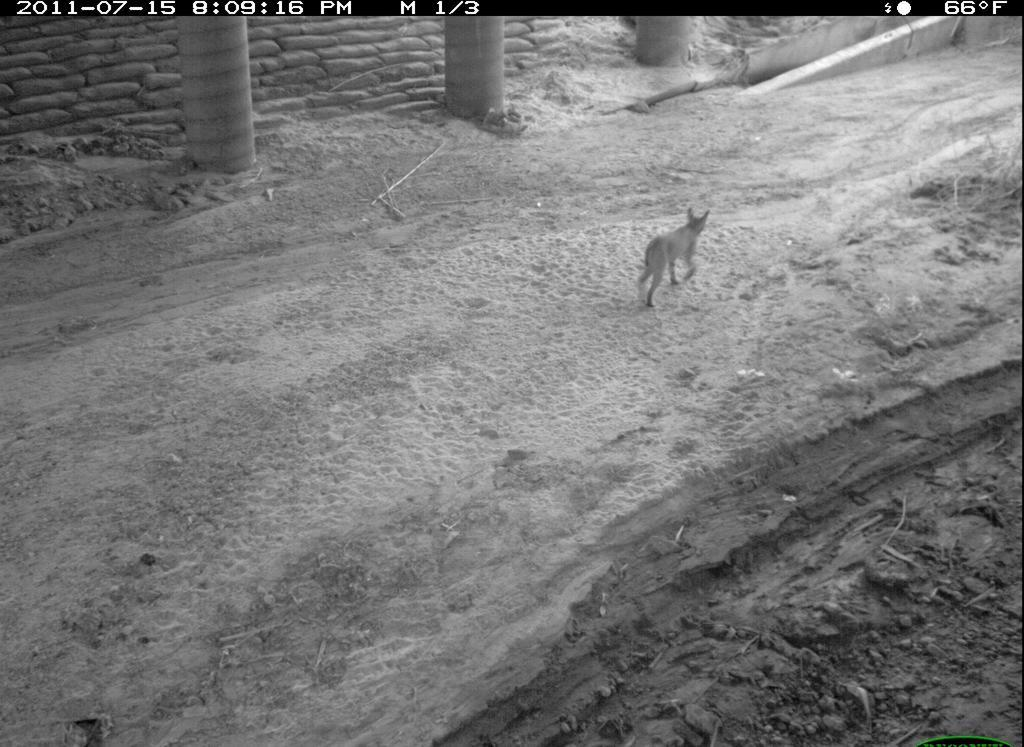bobcat: (628, 203, 713, 318)
